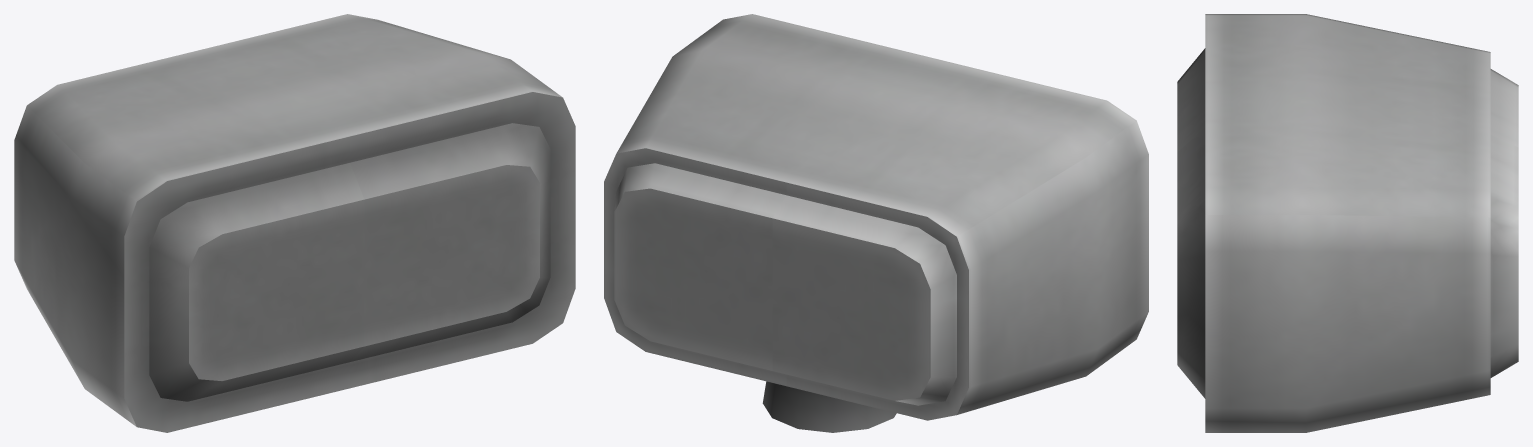
Rendered from Tantares_MOE_4.obj.
3 views of the same model, side by side, from view 1: azimuth 30°, elevation 25°; view 2: azimuth 150°, elevation 25°; view 3: azimuth 270°, elevation 25° (orthographic). The views are drawn at different scales.
Parts seen in each view (by area): view 1: Tantares_MOE_4; view 2: Tantares_MOE_4; view 3: Tantares_MOE_4.
Part boxes in pixels (x1,y1,x2,y2): Tantares_MOE_4: (14,14,575,432); Tantares_MOE_4: (604,14,1148,432); Tantares_MOE_4: (1177,14,1518,432).
Size of the model in its own units: 0.225 by 0.135 by 0.1525.
